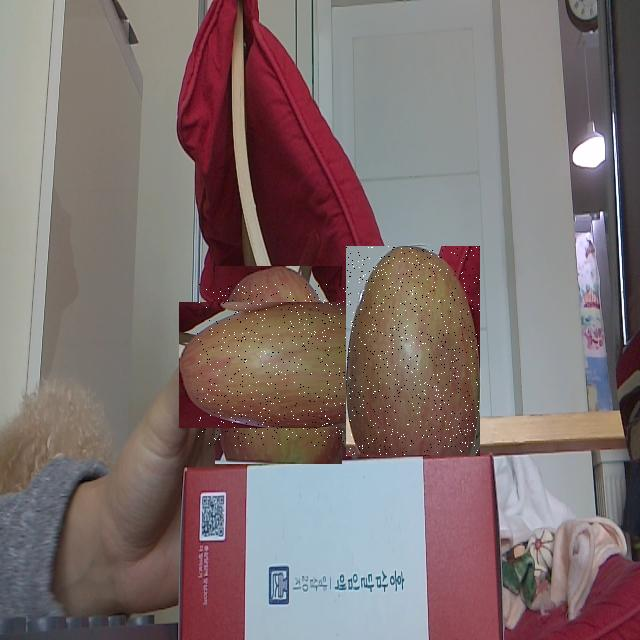apple: (346, 246, 480, 456), (197, 284, 360, 446)
